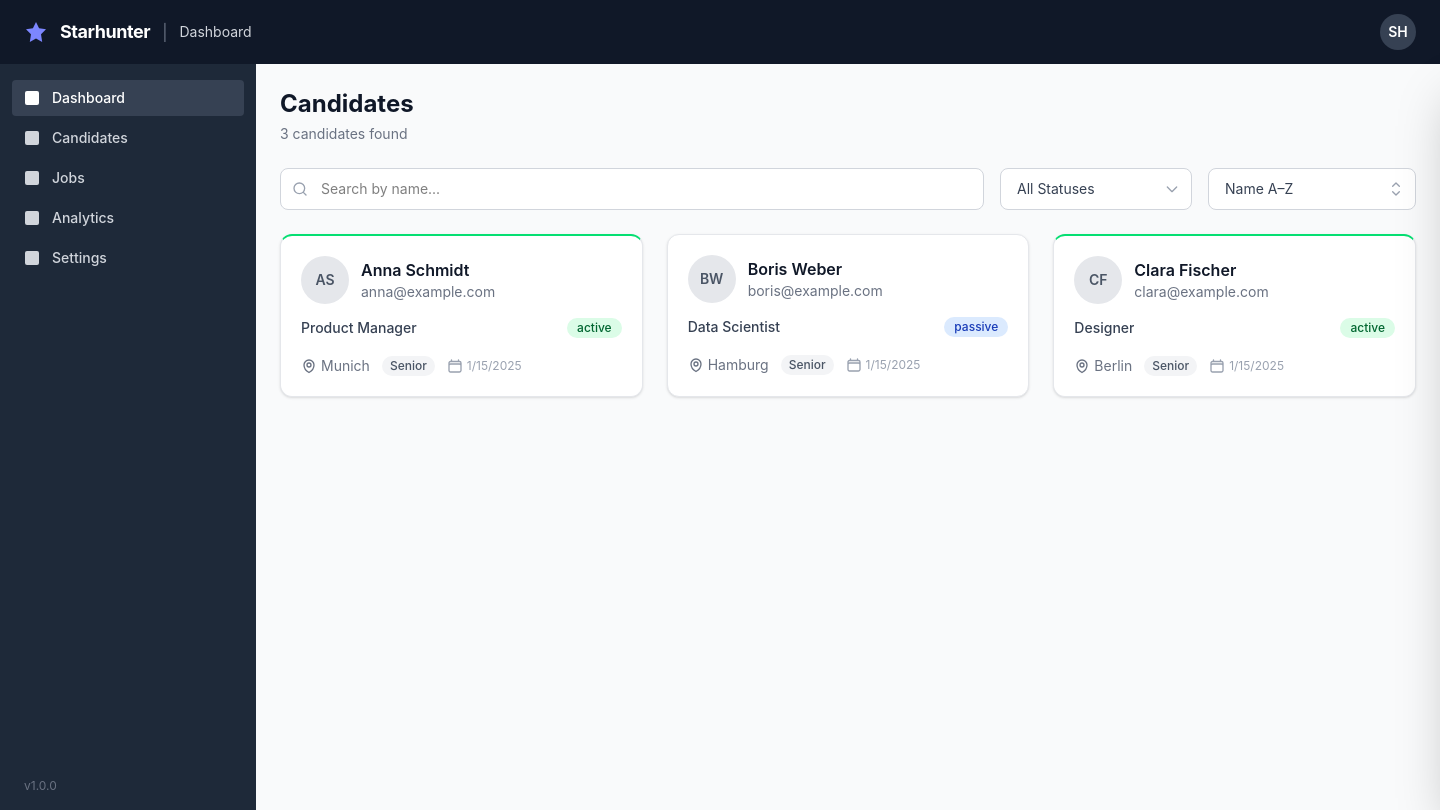
Test: Candidate list (integration) › shows empty state when no candidates match
Expected: the text "Anna Schmidt" is shown, [361,260,469,280]
In the field with placeholder "Search by name...": (632, 189) [280,168,984,210], type "zzzznotfound"
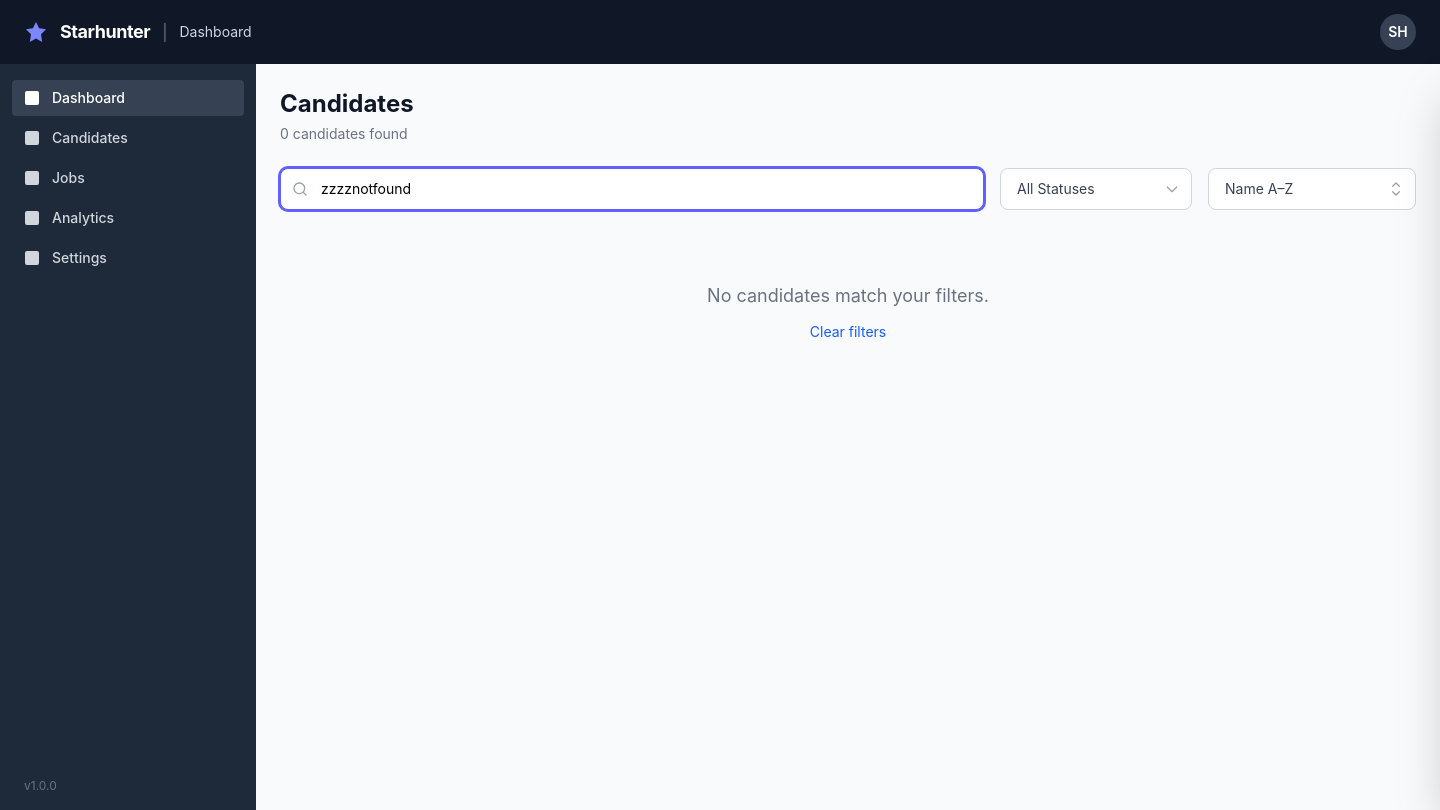
Expected: the text "No candidates match your filters." is shown, [707,285,989,306]
